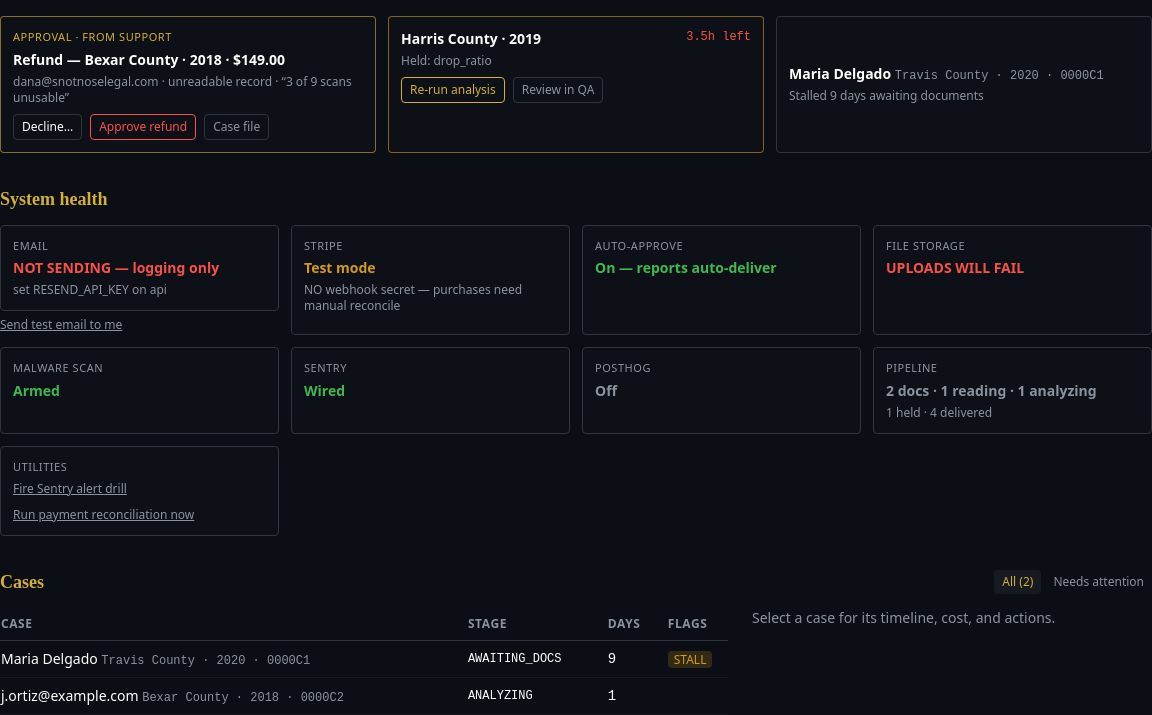
ops overview › case drawer groups routine vs irreversible, shows COGS, and gates delete behind the typed case reference
(page scrolled)
Click the text "j.ortiz@example.com" at (233, 696), box [0, 678, 467, 714]
(page scrolled)
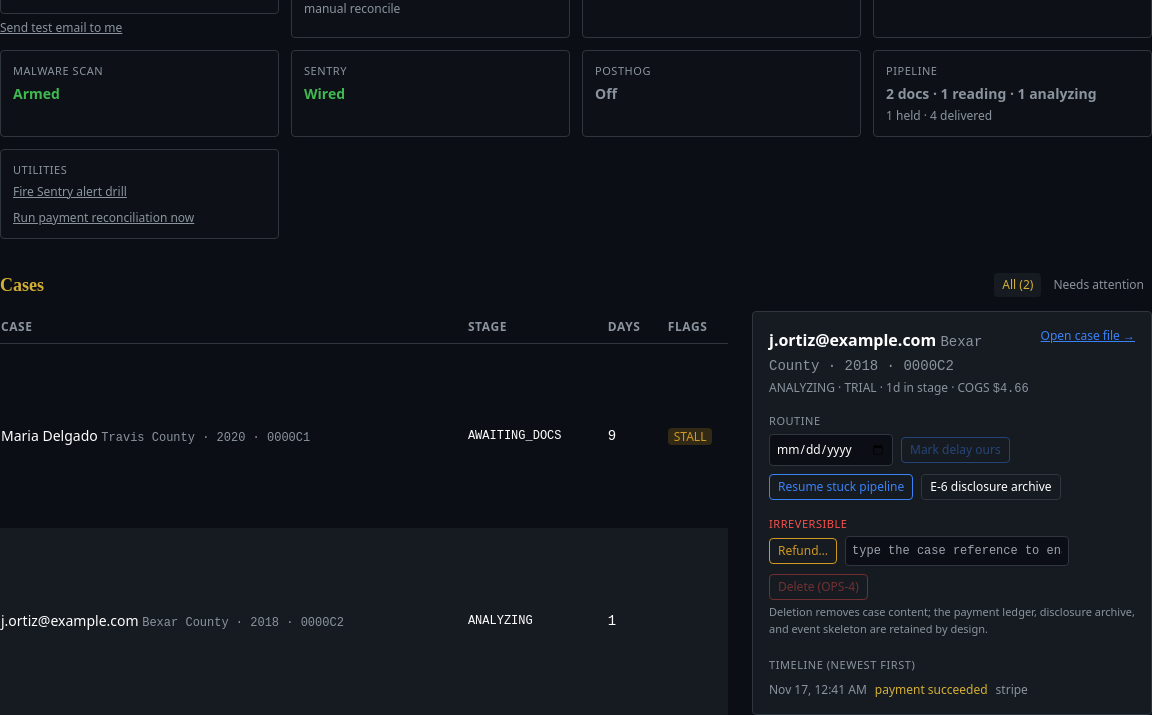
expect the element with test id "case-drawer" shows "COGS $4.66": met, box [752, 311, 1151, 714]
expect the element with test id "case-drawer" shows "Routine": met, box [769, 413, 821, 428]
expect the element with test id "case-drawer" shows "Irreversible": met, box [769, 516, 848, 530]
Type "Bexar County · 2018" into the field with test id "delete-typed" at (957, 551), box [845, 536, 1069, 566]
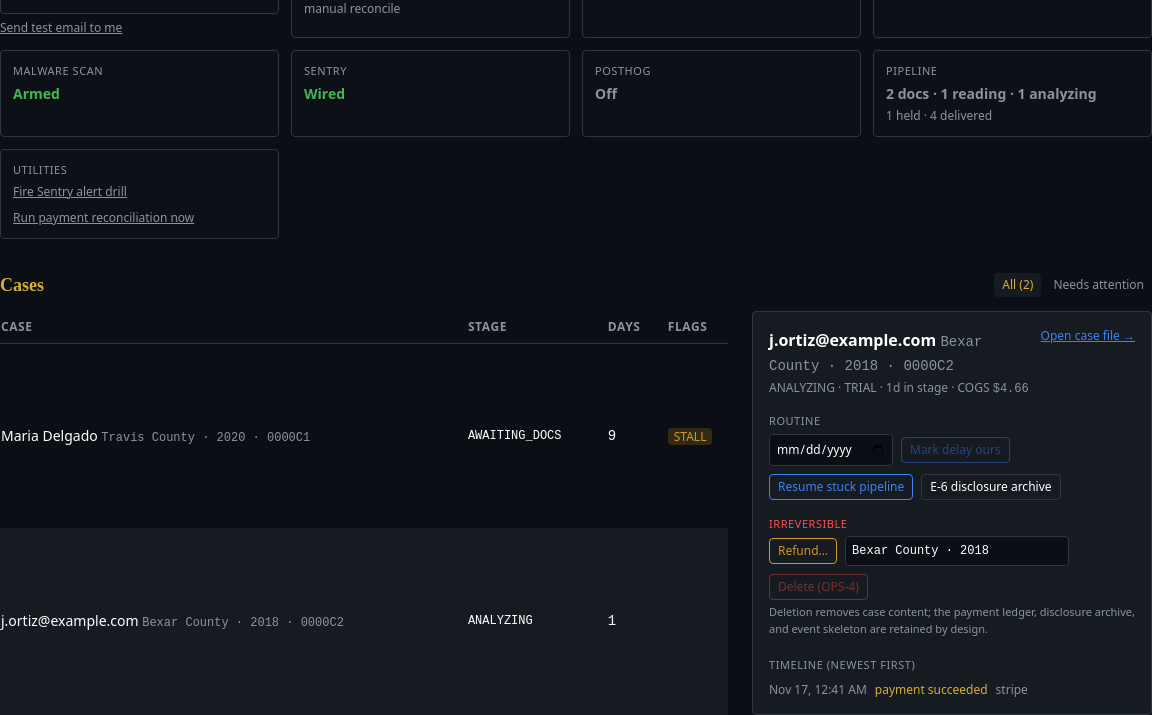
expect the button with test id "delete-case" is disabled: met, box [769, 574, 868, 600]
Replace the text in the field with test id "delete-typed" with "0000C2" at (957, 551), box [845, 536, 1069, 566]
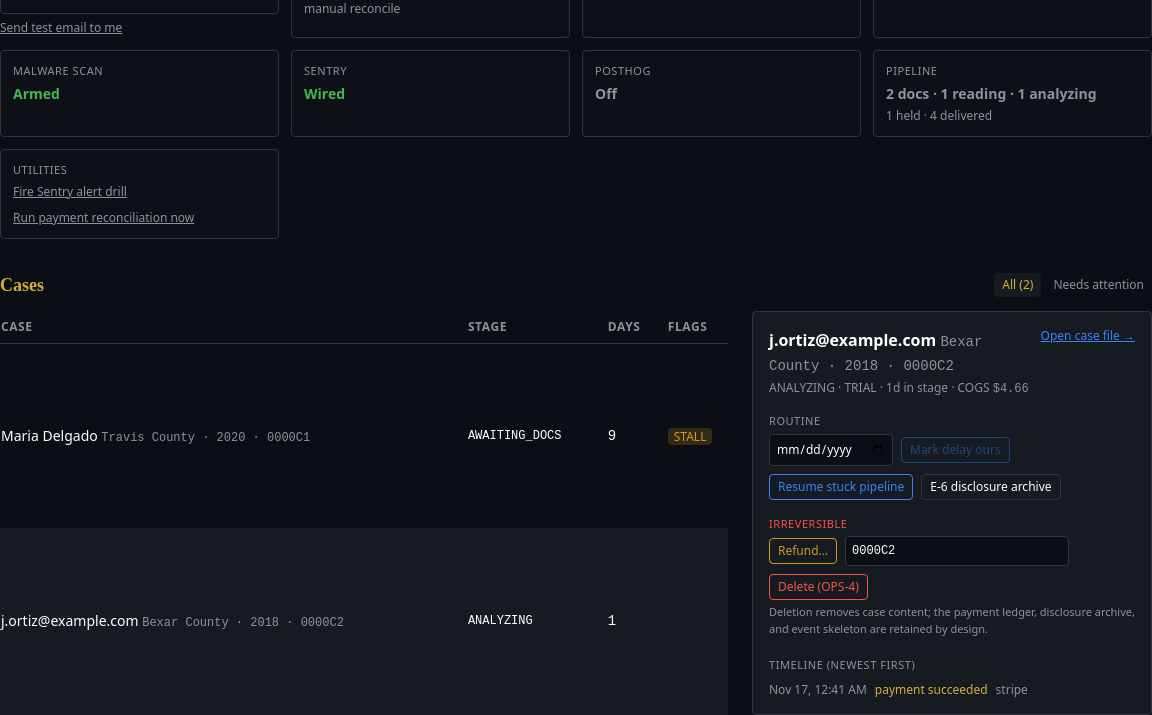
expect the element with test id "case-drawer" shows "payment succeeded": met, box [875, 680, 988, 698]
expect the button with test id "delete-case" is enabled: met, box [769, 574, 868, 600]
